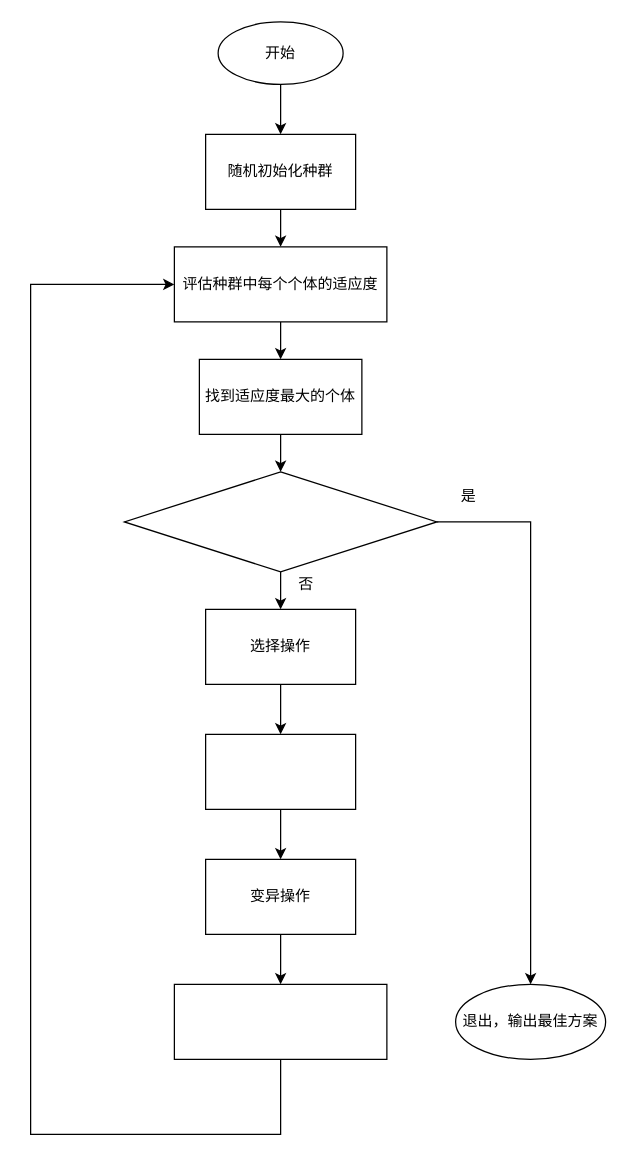
This 628x1166 diagram has some shape labels left out. The shapes that lost their labels are listed below. From the top down, each one's centre as x and y in pixels, then its label:
At point 280,521: "最大适应度是否达到期望值？ 是否达到最大迭代次数？".
At point 280,771: "交叉操作".
At point 280,1021: "产生下一代种群，迭代次数+1".
